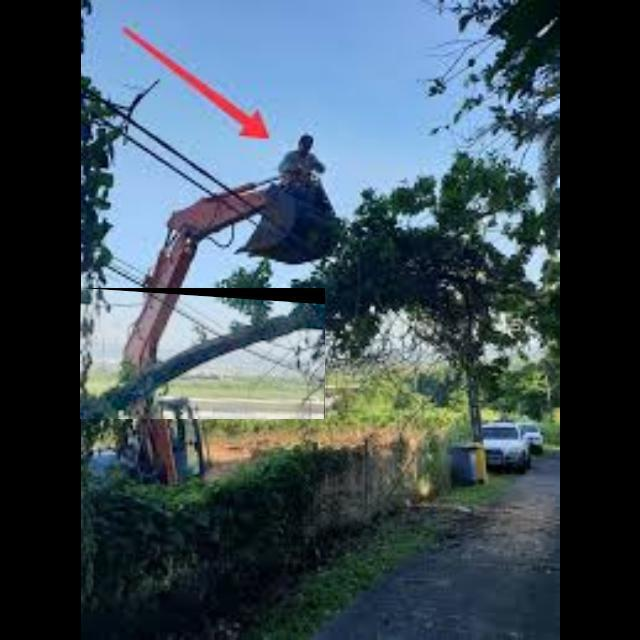fallen_tree: (80, 288, 326, 420)
